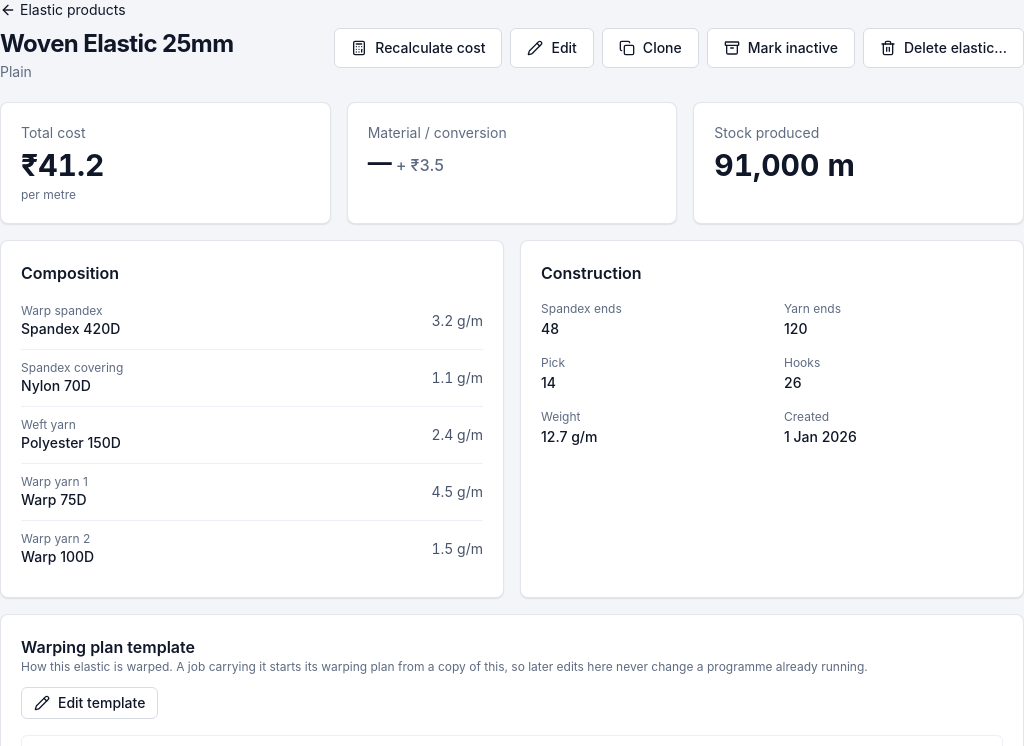
Test: cloning from the detail page › will not submit until the clone is named
Click the button "Clone" at (650, 48), box [602,28,699,68]
(page scrolled)
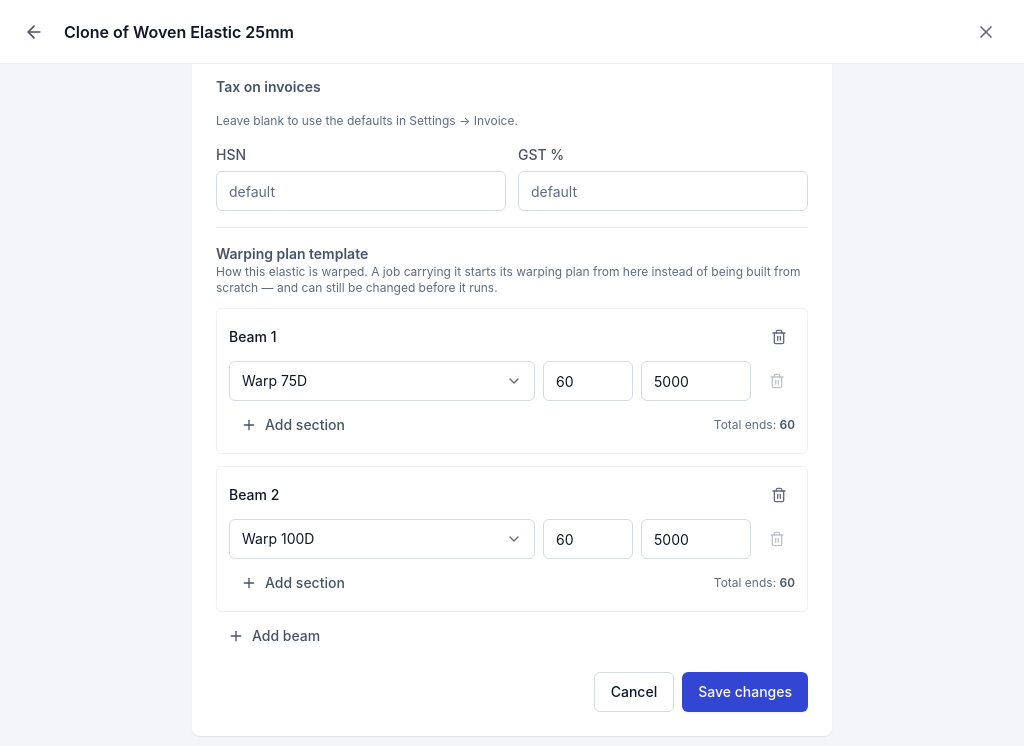
Click the button "Save changes" at (745, 692), box [682,672,808,712]
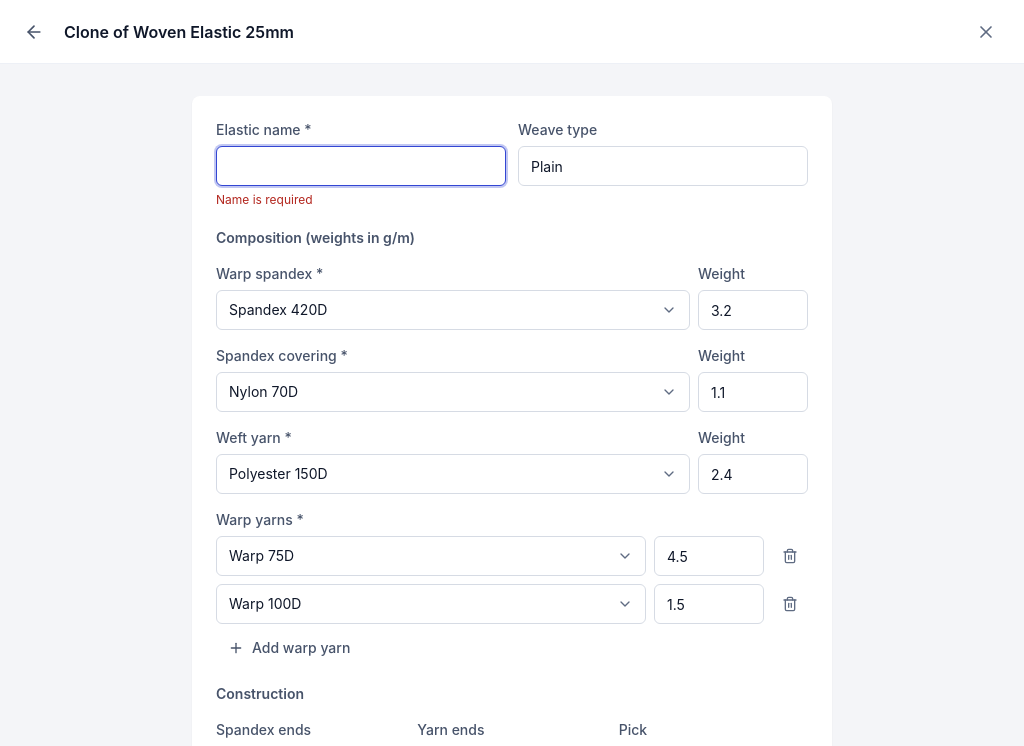
Expected: the text "Name is required" is shown, [216,192,313,207]
